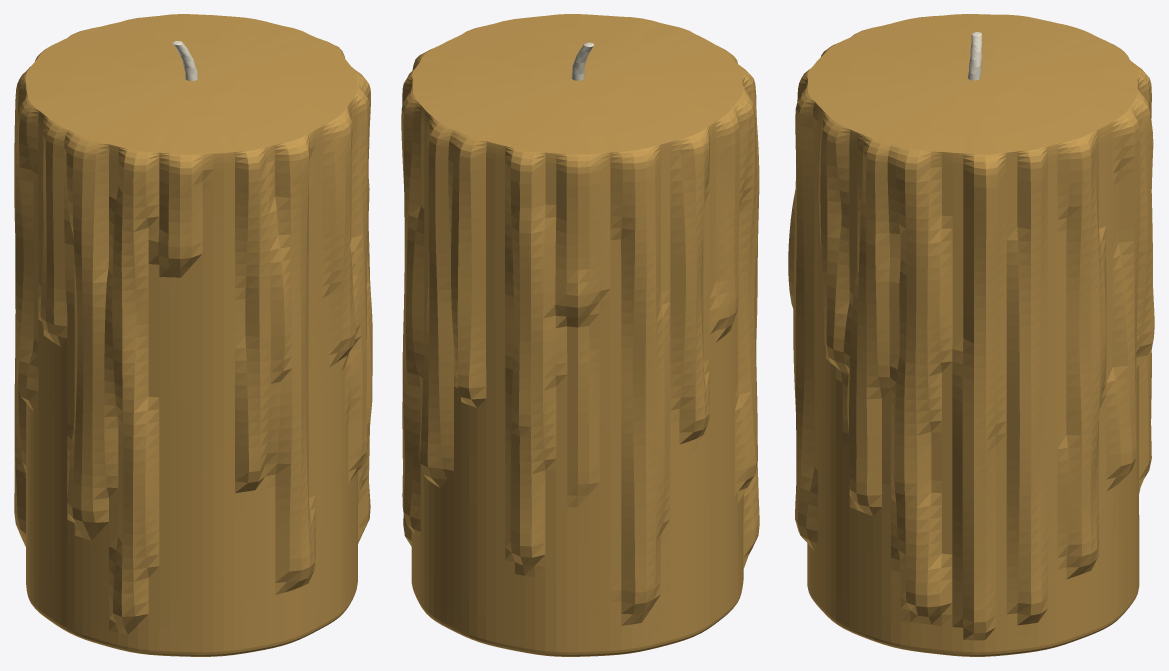
3 views of the same model, side by side, from view 1: azimuth 30°, elevation 25°; view 2: azimuth 150°, elevation 25°; view 3: azimuth 270°, elevation 25° (orthographic).
Parts seen in each view (by area): view 1: NEW568_LOD0_v003; view 2: NEW568_LOD0_v003; view 3: NEW568_LOD0_v003.
Part boxes in pixels (<box>): NEW568_LOD0_v003: <box>14,14,372,656</box>; NEW568_LOD0_v003: <box>401,14,759,656</box>; NEW568_LOD0_v003: <box>788,14,1154,656</box>.
Size of the model in its own units: 0.0808 by 0.1365 by 0.0826.
